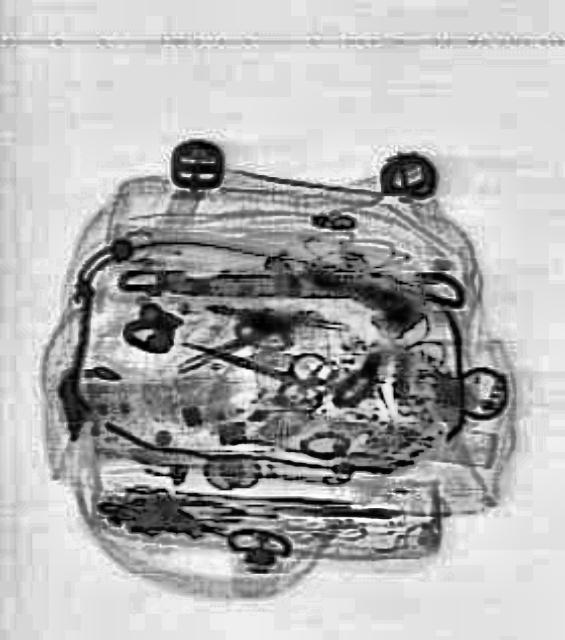Scissors: (166, 306, 336, 418)
Wrench: (116, 257, 465, 307)
